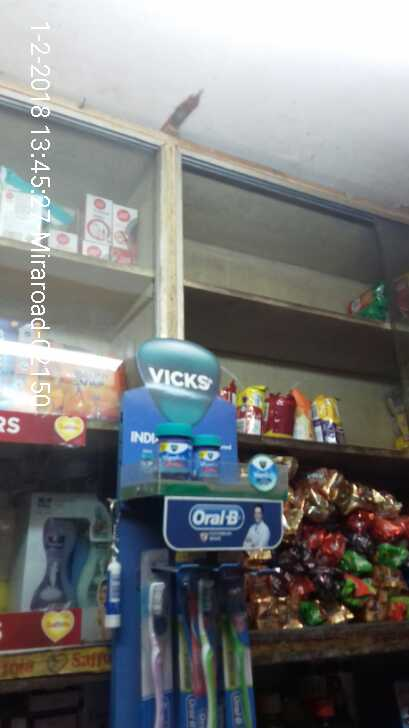pharmacy: (209, 574, 248, 728), (181, 570, 217, 728), (146, 422, 226, 484), (143, 578, 174, 728)
